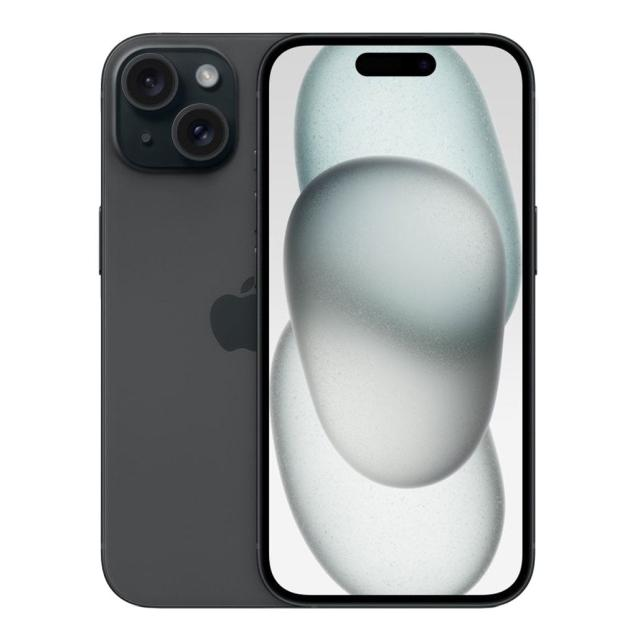mobile_phone: (258, 28, 552, 620), (77, 29, 286, 614)
